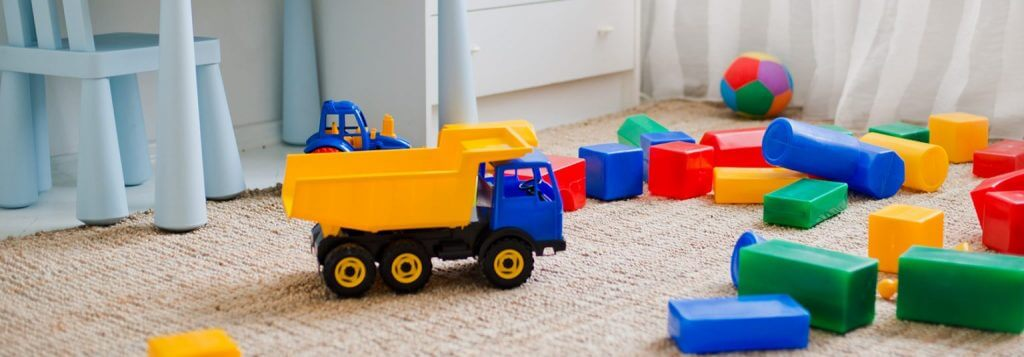toy: (255, 84, 604, 319)
